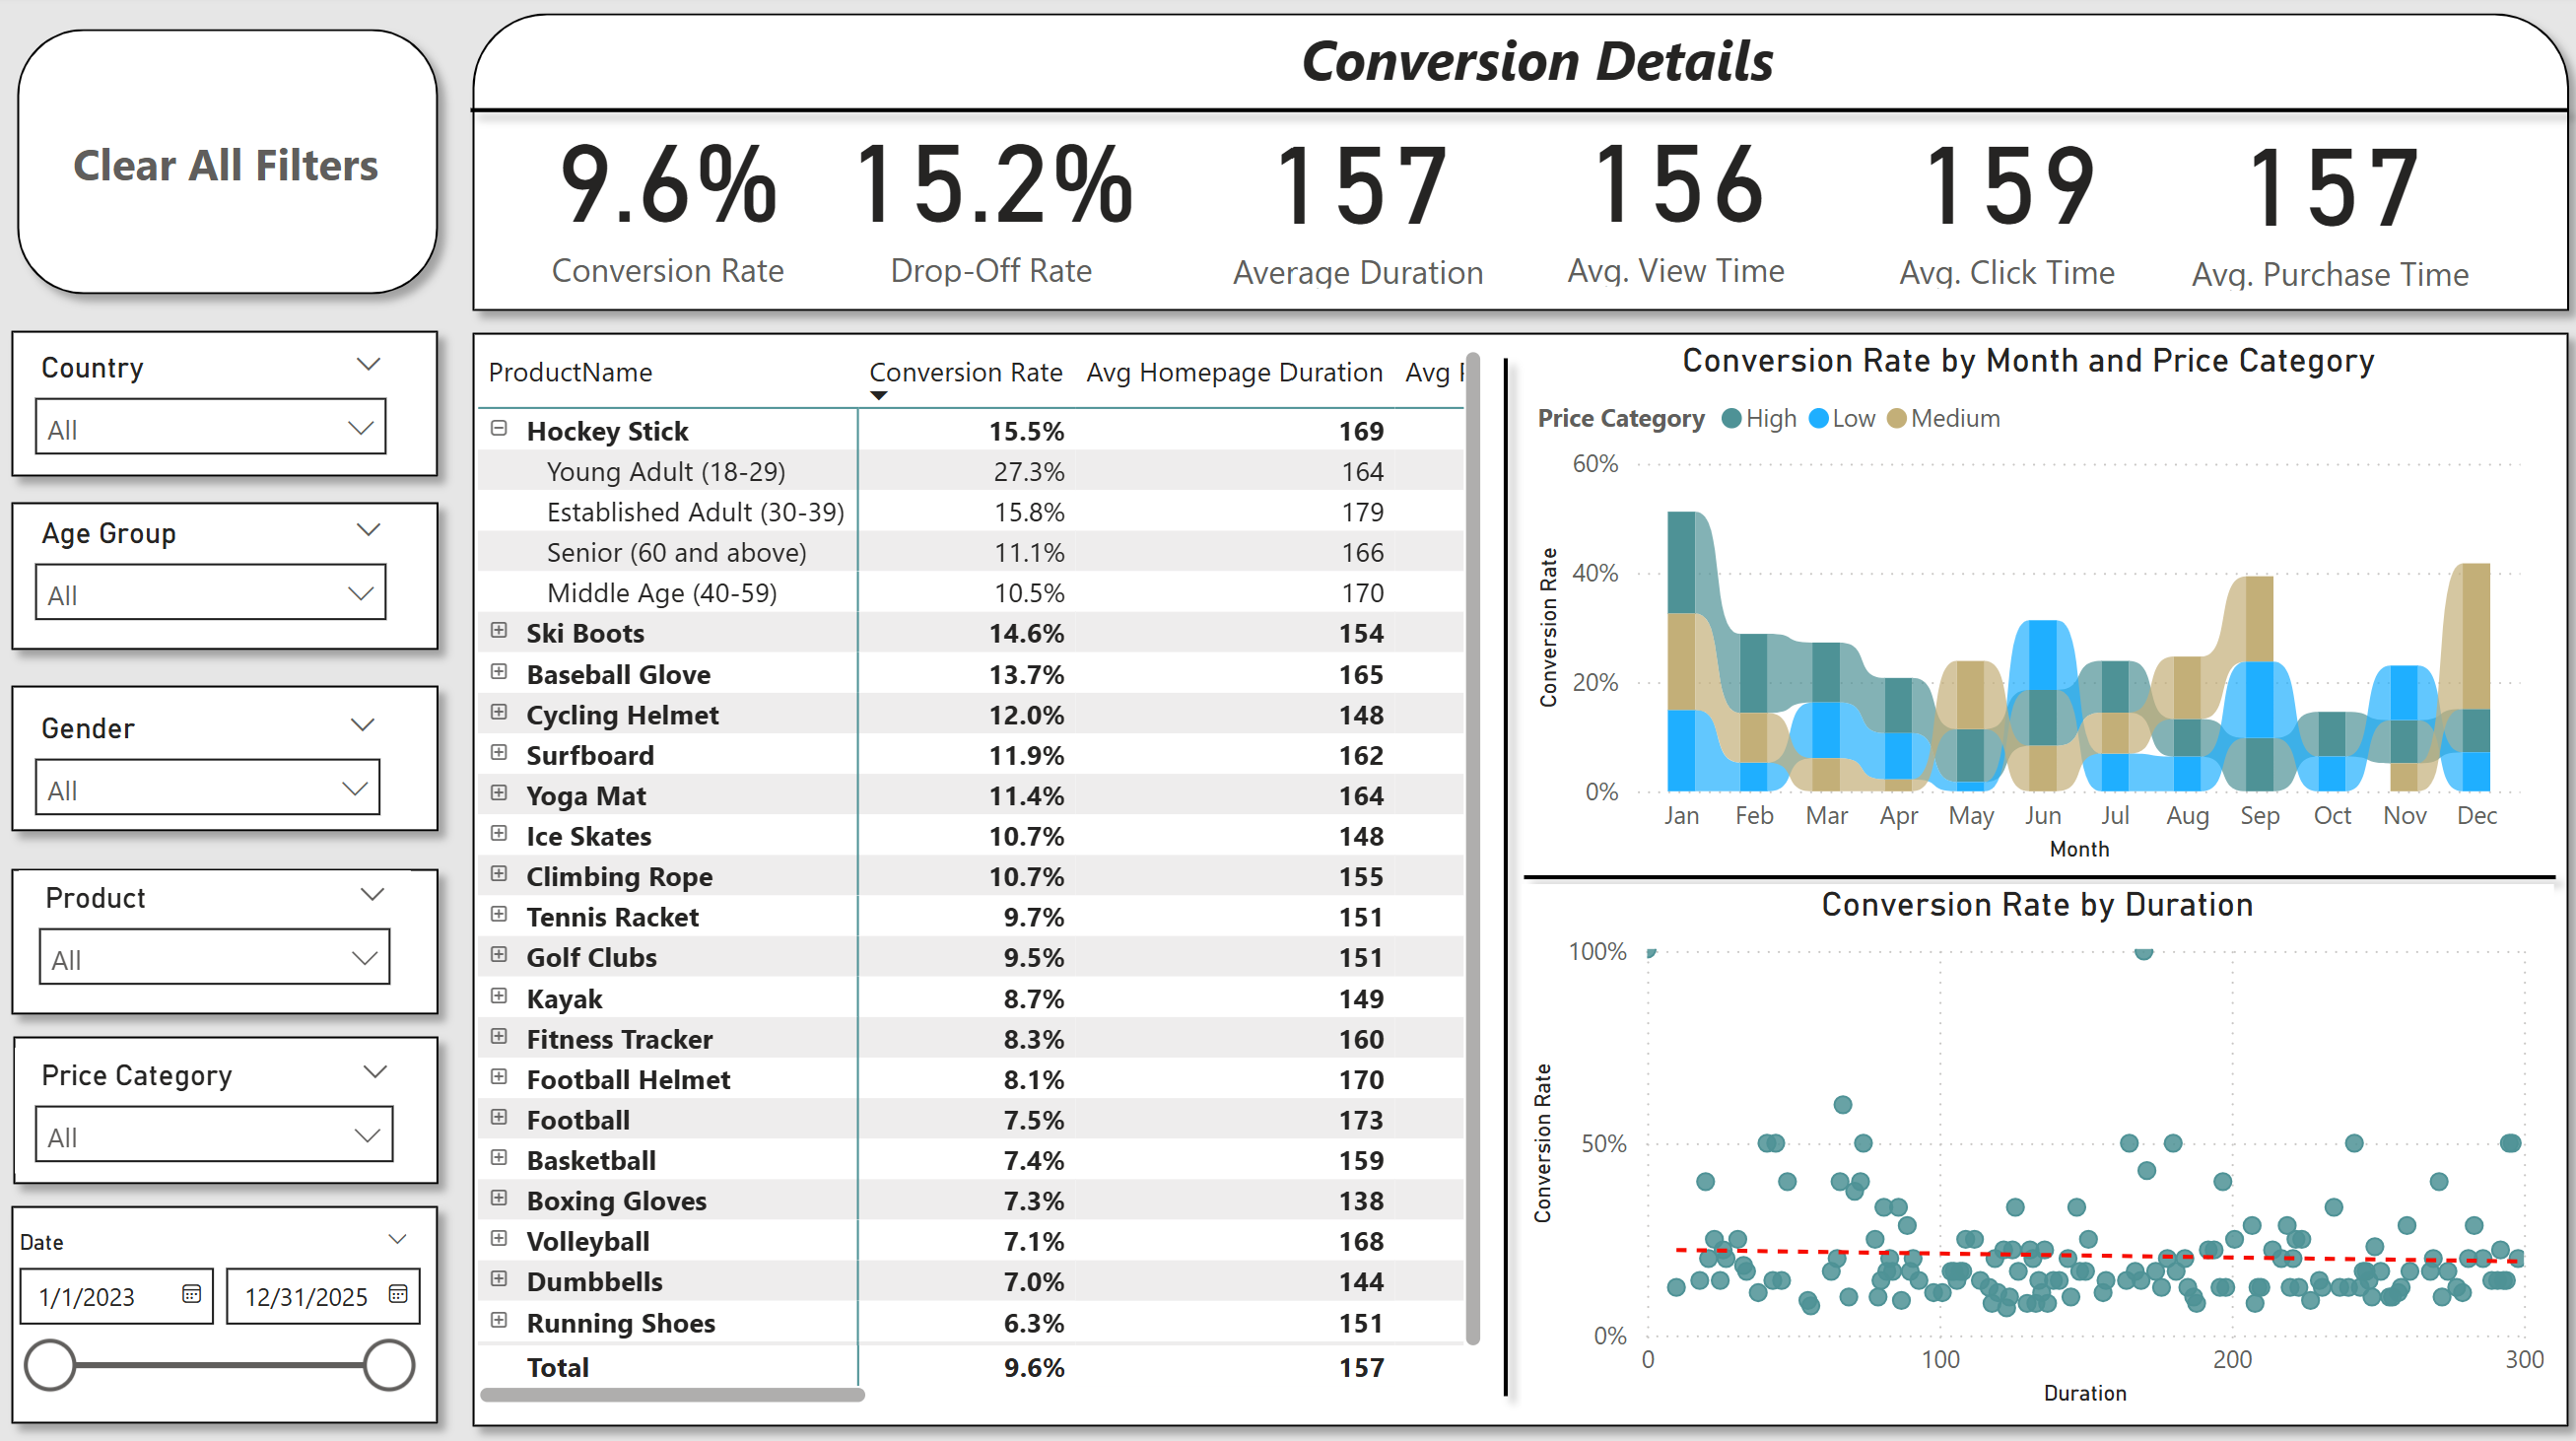

This screenshot's page, from the dashboard's own definition file:
{"tool":"powerbi","page":{"name":"Conversion Details","canvas":[1280,720],"ordinal":3},"visuals":[{"type":"shape","box":[227.8,1,1052.2,164.9],"z":0},{"type":"shape","box":[228.1,158.2,1051.9,557.8],"z":1000},{"type":"shape","box":[0,157.6,228.6,90],"z":2000},{"type":"shape","box":[2.9,8.8,225.7,148.8],"z":3000},{"type":"shape","box":[0,241.8,228.8,90.9],"z":4000},{"type":"shape","box":[0,422.7,228.8,89.9],"z":5000},{"type":"shape","box":[0,589.4,228.6,125.5],"z":6000},{"type":"shape","box":[1,505.6,227.8,90.9],"z":7000},{"type":"actionButton","box":[12.6,17.5,204.3,132.3],"z":8000},{"type":"slicer","fields":{"Values":["dim_customers.Country"]},"box":[10.7,171.2,193.6,61.3],"z":9000},{"type":"slicer","fields":{"Values":["dim_customers.AgeGroup"]},"box":[10.7,252.9,193.6,61.3],"z":10000},{"type":"slicer","fields":{"Values":["dim_calendar.Date"]},"box":[0,605,216.9,96.3],"z":11000},{"type":"slicer","fields":{"Values":["dim_products.PriceCategory"]},"box":[11,520.6,196.8,62],"z":12000},{"type":"shape","box":[0,332.7,228.8,89.9],"z":13000},{"type":"slicer","fields":{"Values":["dim_customers.Gender"]},"box":[10.7,349.2,190.6,56.4],"z":14000},{"type":"slicer","fields":{"Values":["dim_products.ProductName"]},"box":[12.6,432.8,193.6,63.2],"z":15000},{"type":"shape","box":[227,42.1,1053,31.8],"z":20000},{"type":"card","fields":{"Values":["fact_customer_journey.Conversion Rate"]},"box":[236.4,45.7,193.6,104.1],"z":25000},{"type":"textbox","box":[640,8.8,272.3,46.7],"z":27000},{"type":"shape","box":[719.8,171.2,52.5,530.1],"z":29000},{"type":"shape","box":[746,413.4,527.2,45.7],"z":30000},{"type":"card","fields":{"Values":["fact_customer_journey.% of Drop-Off"]},"box":[395.9,45.7,193.6,104.1],"z":34001},{"type":"card","fields":{"Values":["fact_customer_journey.Avg. Click Time"]},"box":[894.8,46.7,197.4,104.1],"z":34002},{"type":"pivotTable","fields":{"Rows":["dim_products.ProductName","dim_customers.AgeGroup"],"Values":["fact_customer_journey.Conversion Rate","fact_customer_journey.Avg. HOMEPAGE Duration","fact_customer_journey.Avg. PRODUCT PAGE Duration","fact_customer_journey.Avg. CHECKOUT Duration","fact_customer_journey.Product Engagement Score"]},"box":[234.4,171.2,504.8,530.1],"z":34003},{"type":"scatterChart","fields":{"X":["fact_customer_journey.Duration"],"Y":["fact_customer_journey.Conversion Rate"]},"box":[753.8,439.6,509.7,261.6],"z":34004},{"type":"ribbonChart","title":"Conversion Rate by Month and Price Category","fields":{"Y":["fact_customer_journey.Conversion Rate"],"Series":["dim_products.PriceCategory"],"Category":["dim_calendar.MonthNameShort"]},"box":[756.7,171.2,495.1,261.6],"z":34005},{"type":"card","fields":{"Values":["fact_customer_journey.Avg. View Time"]},"box":[731.4,45.7,197.4,104.1],"z":34006},{"type":"card","fields":{"Values":["Avg(fact_customer_journey.Duration)"]},"box":[574.8,46.7,197.4,104.1],"z":34007},{"type":"card","fields":{"Values":["fact_customer_journey.Avg. Purchase Time"]},"box":[1054.3,47.7,197.4,104.1],"z":34008}]}

Visuals, with their boxes in screenshot pixels (x1, y1, x2, y2), scaled from the page's 1280x720 canvas onto the 2576x1441 screenshot:
shape: bbox=(458, 2, 2575, 332)
shape: bbox=(459, 316, 2575, 1433)
shape: bbox=(0, 315, 460, 496)
shape: bbox=(6, 18, 460, 315)
shape: bbox=(0, 484, 460, 666)
shape: bbox=(0, 846, 460, 1026)
shape: bbox=(0, 1180, 460, 1431)
shape: bbox=(2, 1012, 460, 1194)
actionButton: bbox=(26, 35, 437, 300)
slicer - dim_customers.Country: bbox=(22, 343, 411, 465)
slicer - dim_customers.AgeGroup: bbox=(22, 507, 411, 629)
slicer - dim_calendar.Date: bbox=(0, 1210, 437, 1404)
slicer - dim_products.PriceCategory: bbox=(22, 1042, 418, 1166)
shape: bbox=(0, 666, 460, 846)
slicer - dim_customers.Gender: bbox=(22, 699, 405, 812)
slicer - dim_products.ProductName: bbox=(26, 866, 415, 993)
shape: bbox=(457, 84, 2575, 148)
card - fact_customer_journey.Conversion Rate: bbox=(476, 92, 865, 300)
textbox: bbox=(1288, 18, 1836, 111)
shape: bbox=(1449, 343, 1554, 1404)
shape: bbox=(1501, 827, 2562, 919)
card - fact_customer_journey.% of Drop-Off: bbox=(797, 92, 1186, 300)
card - fact_customer_journey.Avg. Click Time: bbox=(1800, 94, 2198, 302)
pivotTable - dim_products.ProductName x dim_customers.AgeGroup: bbox=(472, 343, 1488, 1404)
scatterChart - fact_customer_journey.Duration x fact_customer_journey.Conversion Rate: bbox=(1517, 880, 2542, 1404)
"Conversion Rate by Month and Price Category" ribbonChart: bbox=(1523, 343, 2519, 866)
card - fact_customer_journey.Avg. View Time: bbox=(1472, 92, 1869, 300)
card - Avg(fact_customer_journey.Duration): bbox=(1157, 94, 1554, 302)
card - fact_customer_journey.Avg. Purchase Time: bbox=(2122, 96, 2519, 304)
